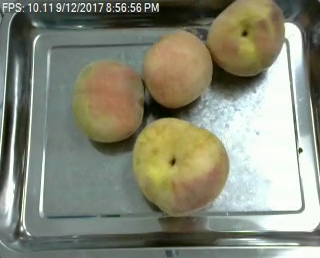Peach: (133, 116, 228, 216), (73, 60, 145, 144), (208, 0, 286, 77), (142, 29, 213, 109)
